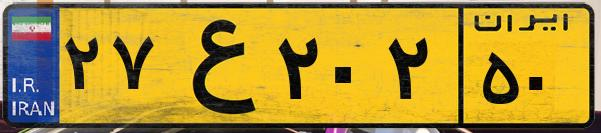0: (330, 28, 385, 110), (525, 38, 570, 115)
2: (270, 28, 330, 110), (385, 28, 445, 110), (57, 26, 110, 100)
5: (475, 38, 525, 113)
7: (110, 28, 158, 98)
ع: (158, 12, 270, 120)
